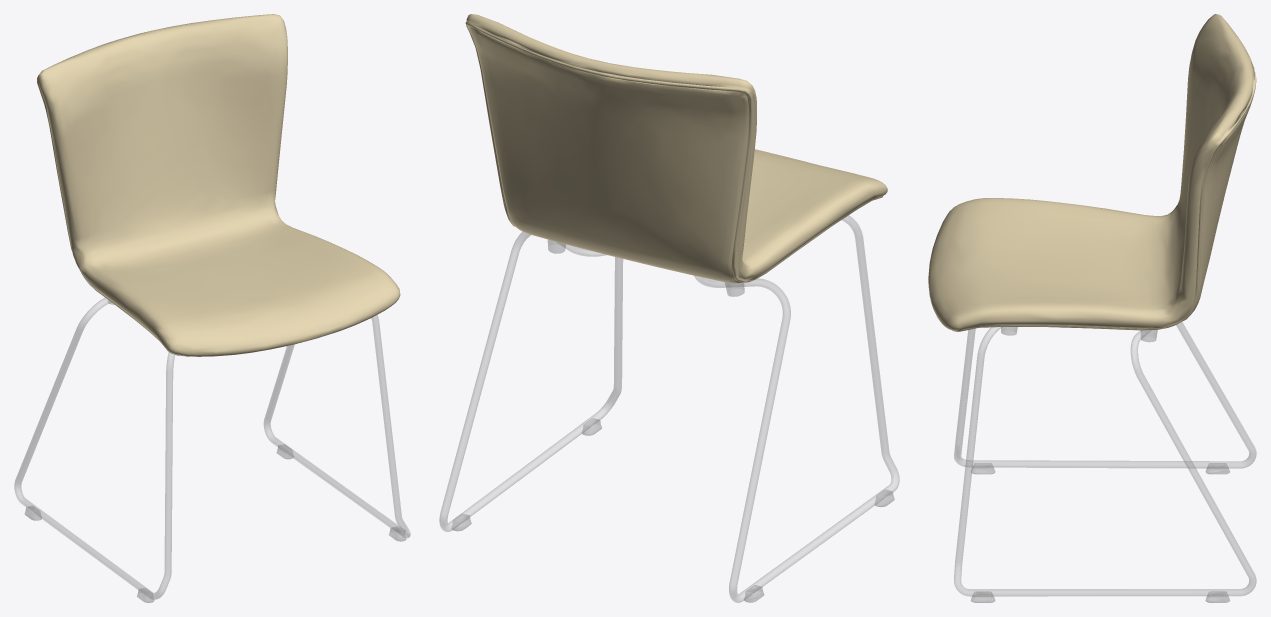
File: Chair1.glb
The picture shows the model from 3 angles, left to right: view 1: azimuth 30°, elevation 25°; view 2: azimuth 150°, elevation 25°; view 3: azimuth 270°, elevation 25°; orthographic projection. The views are drawn at different scales.
Visible parts, largest first — view 1: Furniture_Office-Chairs_Fritz-Hansen_VICO-DUOT-FullUph-VM114; view 2: Furniture_Office-Chairs_Fritz-Hansen_VICO-DUOT-FullUph-VM114; view 3: Furniture_Office-Chairs_Fritz-Hansen_VICO-DUOT-FullUph-VM114.
Boxes of the visible parts, bbox=[...] form: Furniture_Office-Chairs_Fritz-Hansen_VICO-DUOT-FullUph-VM114: bbox=[14, 14, 410, 602]; Furniture_Office-Chairs_Fritz-Hansen_VICO-DUOT-FullUph-VM114: bbox=[439, 14, 899, 602]; Furniture_Office-Chairs_Fritz-Hansen_VICO-DUOT-FullUph-VM114: bbox=[928, 14, 1256, 602].
Size of the model in its own units: 5.1 by 8.24 by 5.29.
